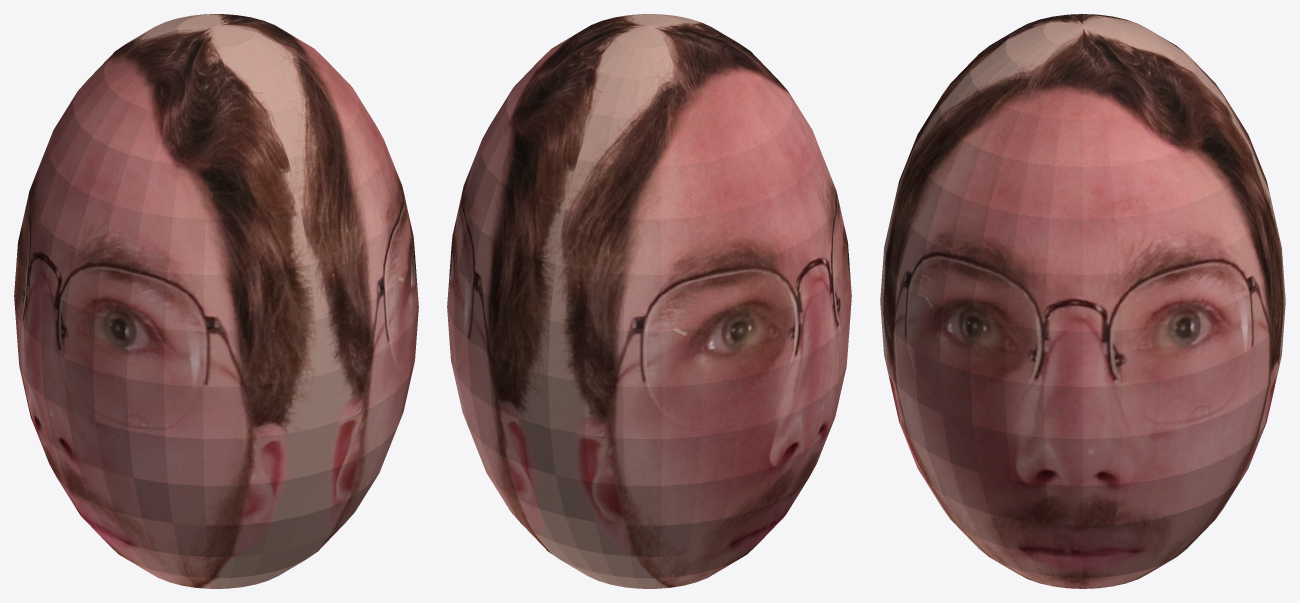
The model's file is Demidkin.0339980f.glb.
The picture shows the model from 3 angles, left to right: view 1: azimuth 30°, elevation 25°; view 2: azimuth 150°, elevation 25°; view 3: azimuth 270°, elevation 25°; orthographic projection.
Visible parts, largest first — view 1: Sphere; view 2: Sphere; view 3: Sphere.
Part boxes in pixels (x1,y1,x2,y2): Sphere: (14,14,418,588); Sphere: (447,14,851,588); Sphere: (880,14,1285,588).
Size of the model in its own units: 2 by 3 by 2.
Materials: 1 (1 with a texture image).
